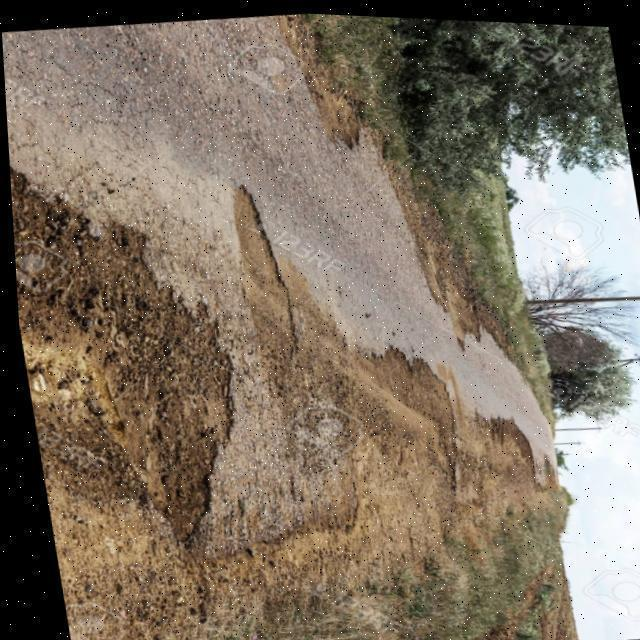Pothole: (8, 166, 550, 640)
